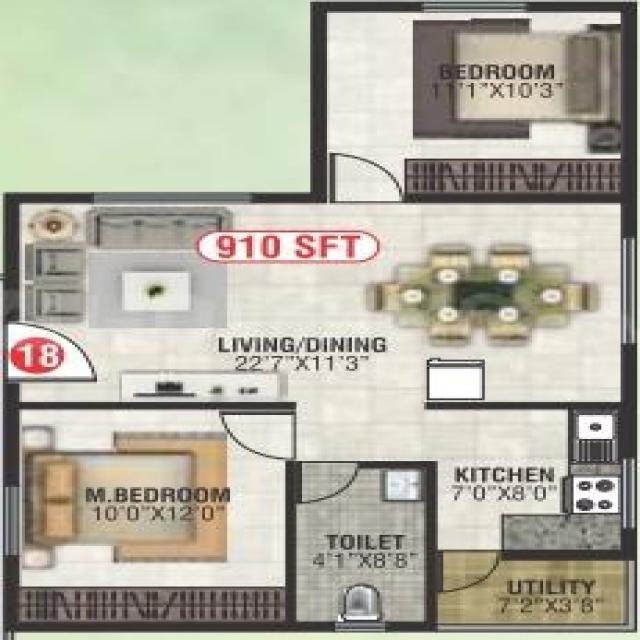Bedroom: (311, 0, 637, 207)
Bedroom with Toilet: (0, 403, 441, 639)
Dining: (355, 243, 600, 351)
Enterance-Foyer: (6, 321, 101, 383)
Kitchen: (439, 412, 637, 561)
Living: (2, 196, 299, 412)
Toilet: (286, 461, 437, 630)
Utility: (435, 548, 633, 632)
